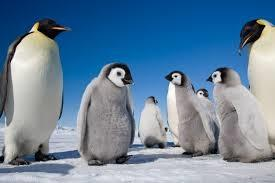emporer: (1, 20, 79, 168)
